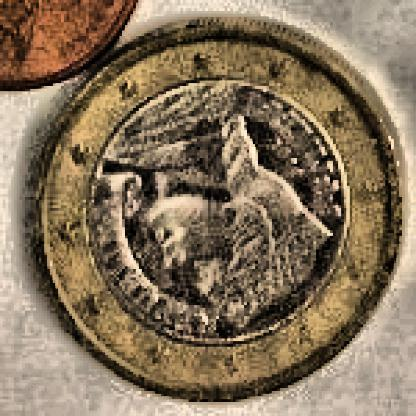coin: (38, 16, 406, 404)
